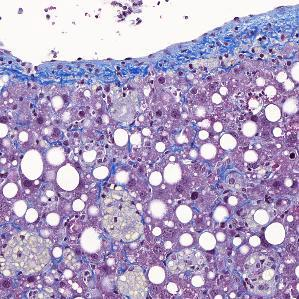fibrosis: (193, 28, 298, 66)
